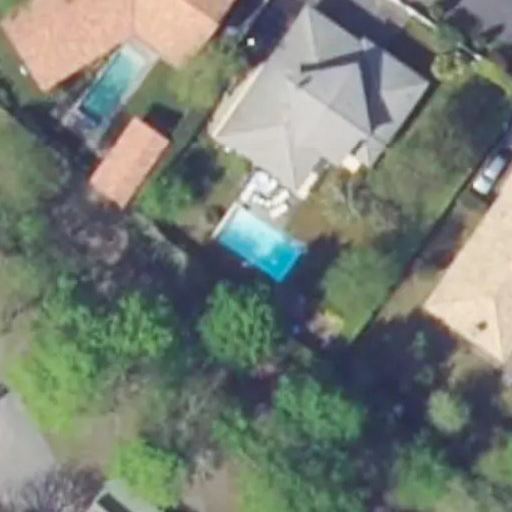pool: (213, 236, 298, 247)
